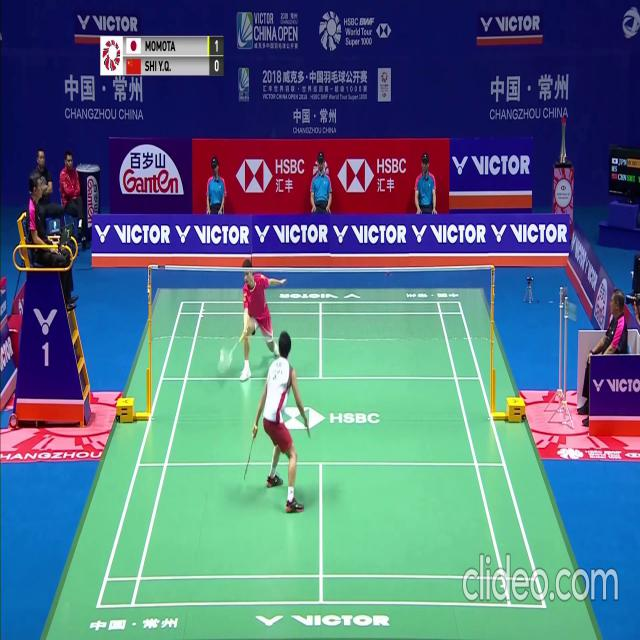Shuttlecock: (220, 352, 224, 360)
